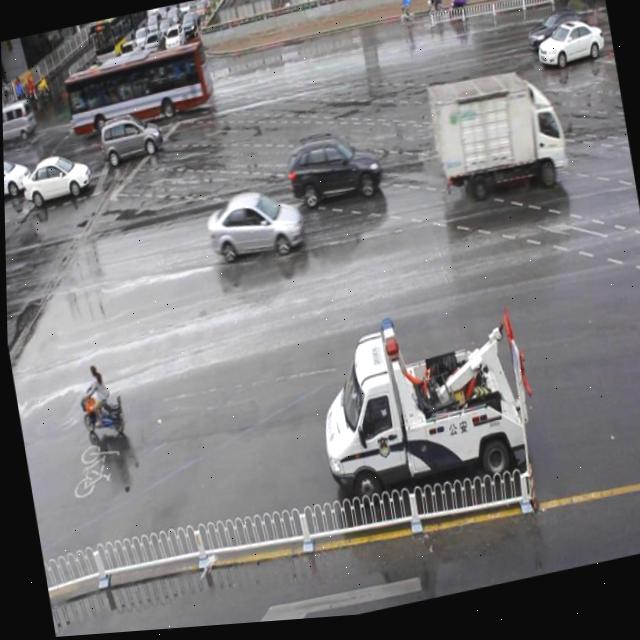bus: (303, 293, 540, 519), (424, 66, 569, 214)
car: (283, 129, 385, 218), (202, 186, 303, 272), (17, 147, 93, 209), (532, 20, 605, 79), (98, 113, 165, 167), (524, 12, 593, 60)
van: (63, 45, 216, 138)
